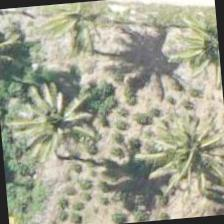Kelapa_Sawit: (5, 65, 103, 163), (144, 100, 223, 198), (33, 0, 129, 74)
